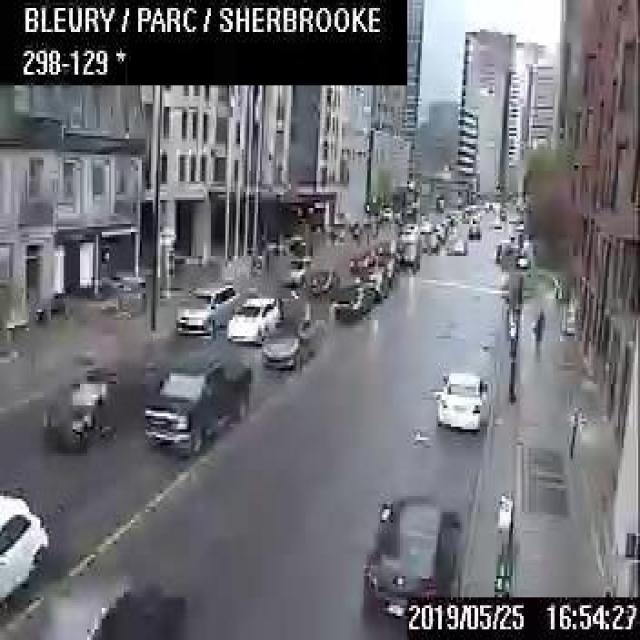pedestrian: (531, 305, 544, 357)
vehicle: (362, 496, 463, 621), (143, 362, 250, 456), (44, 352, 114, 456), (0, 485, 49, 603), (171, 280, 240, 335), (259, 317, 326, 368), (432, 368, 487, 427), (226, 295, 281, 341), (331, 276, 373, 318), (359, 264, 387, 298), (283, 252, 311, 282), (310, 268, 338, 296), (394, 240, 419, 271), (444, 233, 466, 254), (467, 222, 480, 238)
